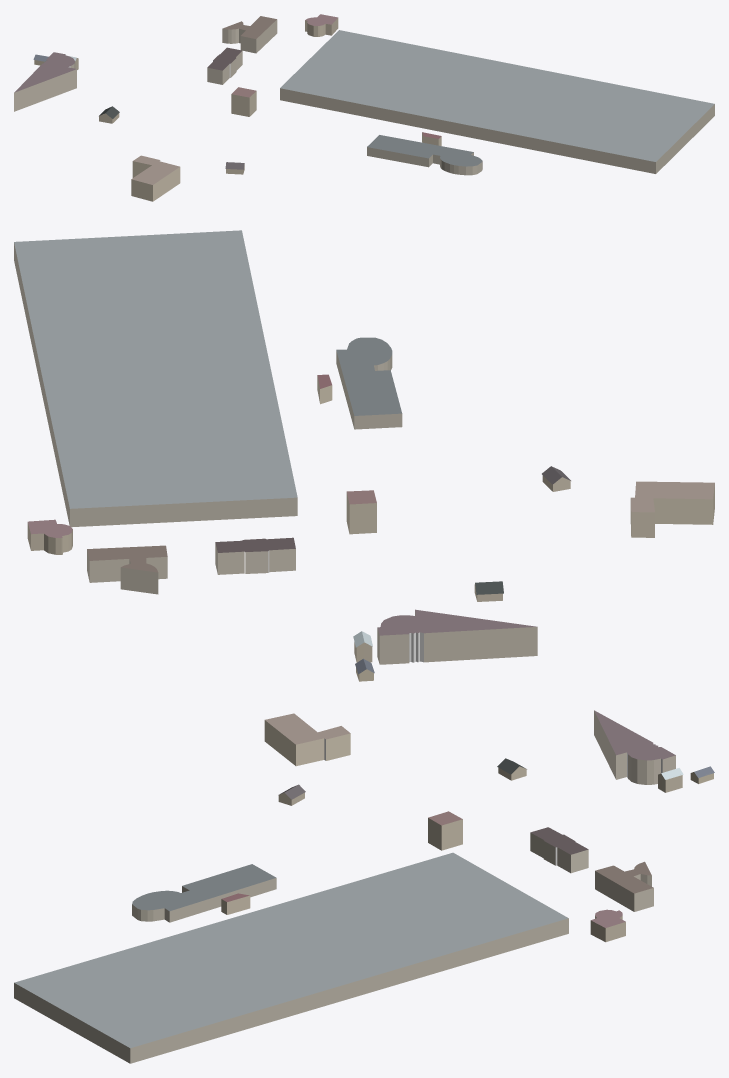
The picture shows the model from 3 angles, top to bottom: view 1: azimuth 30°, elevation 25°; view 2: azimuth 150°, elevation 25°; view 3: azimuth 270°, elevation 25°; orthographic projection. The views are drawn at different scales.
Parts seen in each view (by area): view 1: tuile; view 2: tuile; view 3: tuile.
Boxes of the visible parts, bbox=[...] form: tuile: bbox=[14, 14, 714, 201]; tuile: bbox=[14, 230, 714, 681]; tuile: bbox=[14, 710, 714, 1063].
Size of the model in its own units: 351 by 13.23 by 316.
